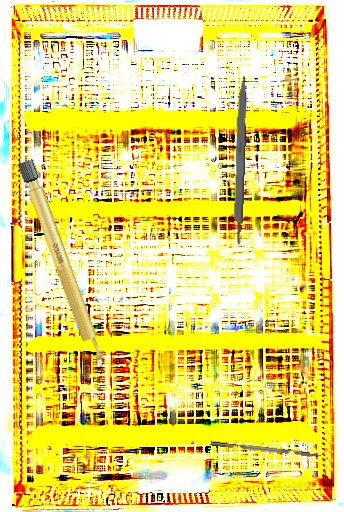Chopper: (210, 435, 328, 460)
Scalpel Handle: (17, 158, 108, 371), (231, 75, 248, 246)
